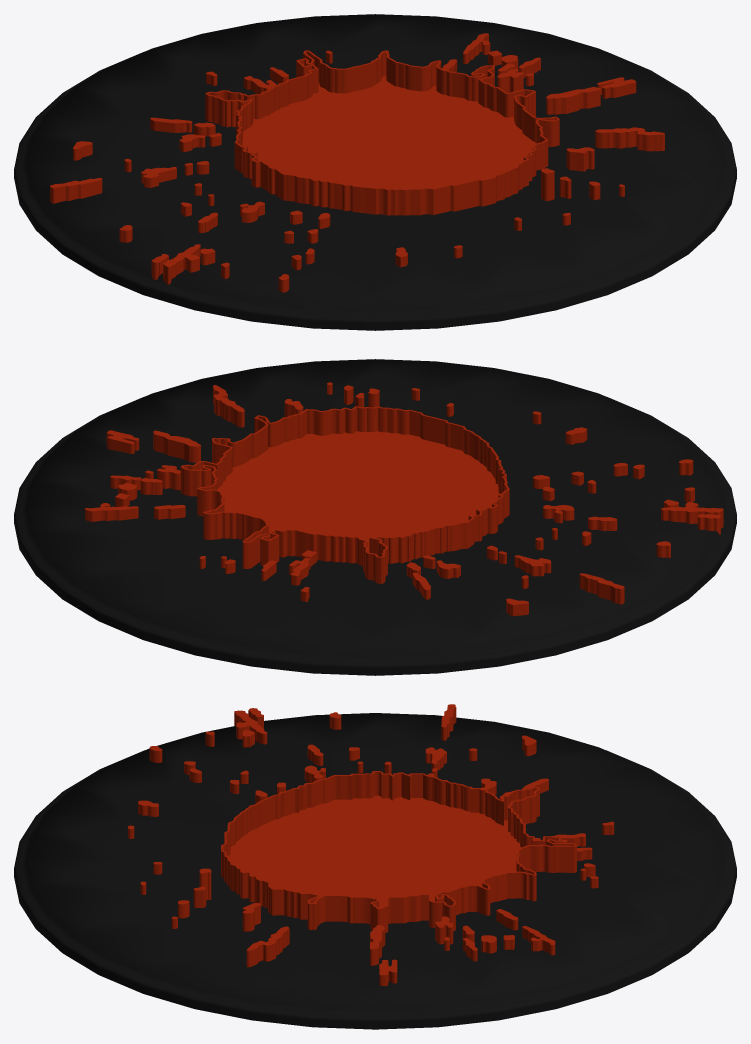
The model's file is Niveau splash YTP.fbx.
3 renders of one model, top to bottom at view 1: azimuth 30°, elevation 25°; view 2: azimuth 150°, elevation 25°; view 3: azimuth 270°, elevation 25°, orthographic.
Parts seen in each view (by area): view 1: Cylindre001, Forme1; view 2: Cylindre001, Forme1; view 3: Cylindre001, Forme1.
Boxes of the visible parts, box(x1,y1,x2,y2) form: Cylindre001: box(14, 14, 736, 330); Forme1: box(50, 33, 664, 292); Cylindre001: box(14, 359, 736, 675); Forme1: box(85, 382, 723, 616); Cylindre001: box(14, 713, 736, 1029); Forme1: box(128, 704, 614, 986).
Size of the model in its own units: 397 by 30.07 by 397.
